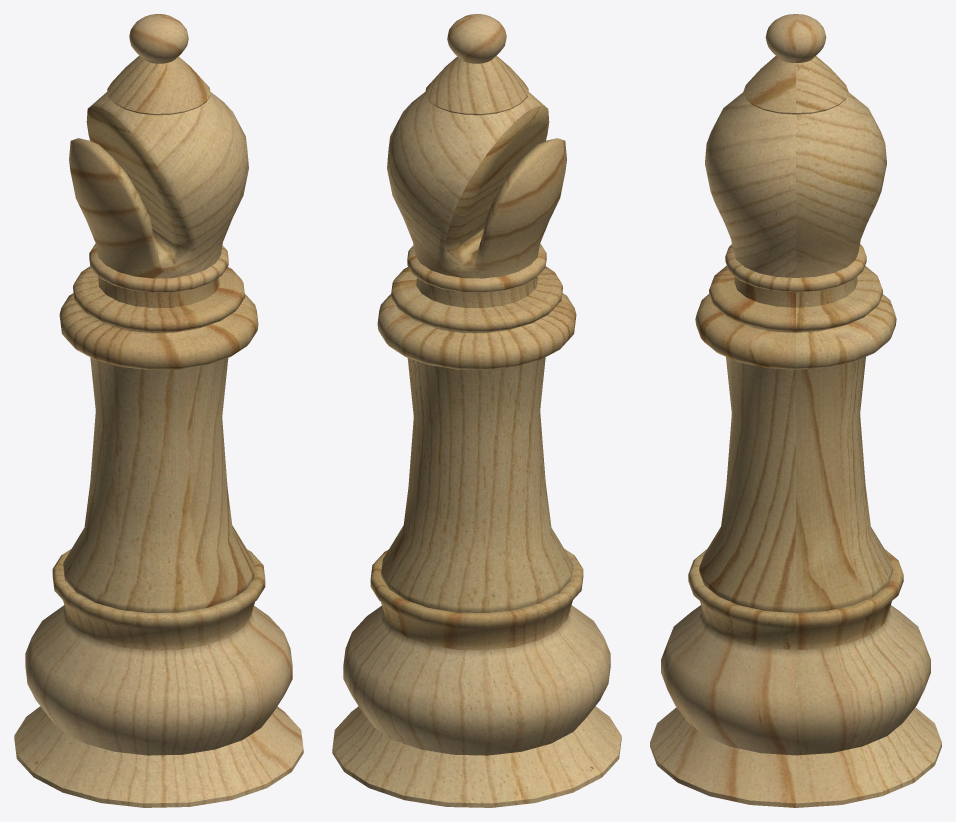
File: White_Bishop.dae
3 views of the same model, side by side, from view 1: azimuth 30°, elevation 25°; view 2: azimuth 150°, elevation 25°; view 3: azimuth 270°, elevation 25° (orthographic).
Parts seen in each view (by area): view 1: Bishop; view 2: Bishop; view 3: Bishop.
Boxes of the visible parts, box(x1,y1,x2,y2) form: Bishop: box(14, 14, 303, 807); Bishop: box(332, 14, 621, 807); Bishop: box(650, 14, 941, 807).
Size of the model in its own units: 1.49 by 4.15 by 1.51.
Materials: 1 (1 with a texture image).
